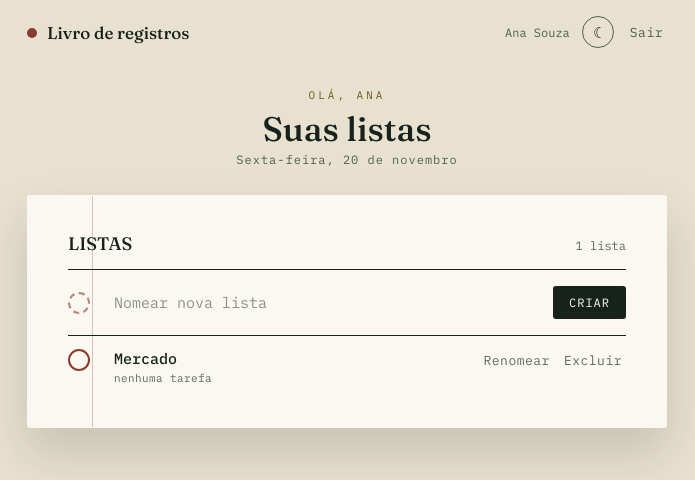
it: ListsPage › renomeia uma lista
Click the button named "Renomear \"Mercado\"". click: click(517, 360)
box: [480, 350, 554, 371]
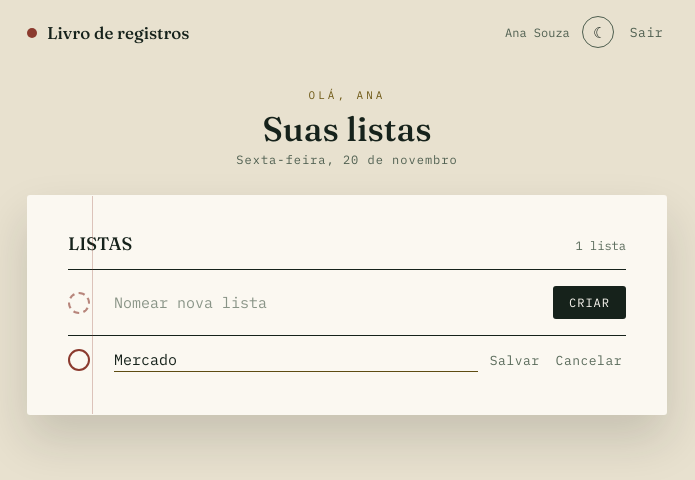
Replace the text in the field named "Renomear lista" with "Supermercado". click: (296, 360)
box: [114, 348, 478, 372]
Then press Enter
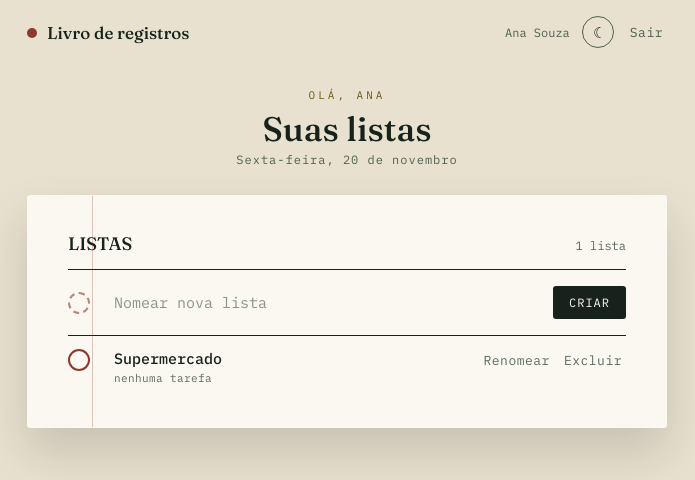
Expected: the link "Supermercado" is shown, [114, 349, 222, 368]
